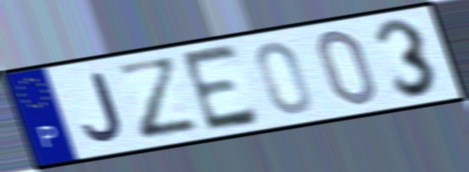0: (313, 27, 380, 109), (254, 40, 314, 117)
3: (374, 16, 441, 100)
E: (177, 41, 264, 136)
J: (80, 69, 126, 144)
Z: (111, 54, 205, 144)
